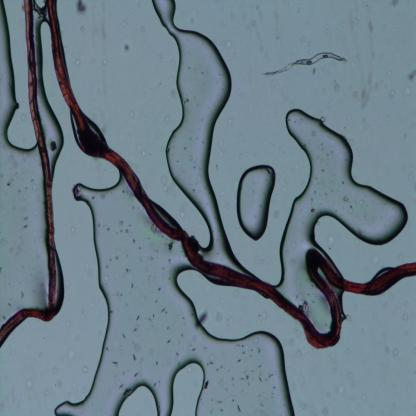Air bubble: (113, 266, 298, 414), (276, 106, 411, 283), (149, 1, 233, 251), (55, 175, 123, 415), (0, 3, 35, 153), (236, 163, 277, 245)
Background material: (75, 1, 92, 17), (120, 40, 133, 54), (49, 140, 58, 152), (410, 70, 416, 83)
Cellulose filter fibre: (45, 1, 416, 350), (260, 48, 349, 77)
Cotton: (0, 1, 62, 355)
